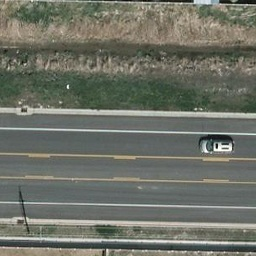car: (196, 134, 236, 155)
